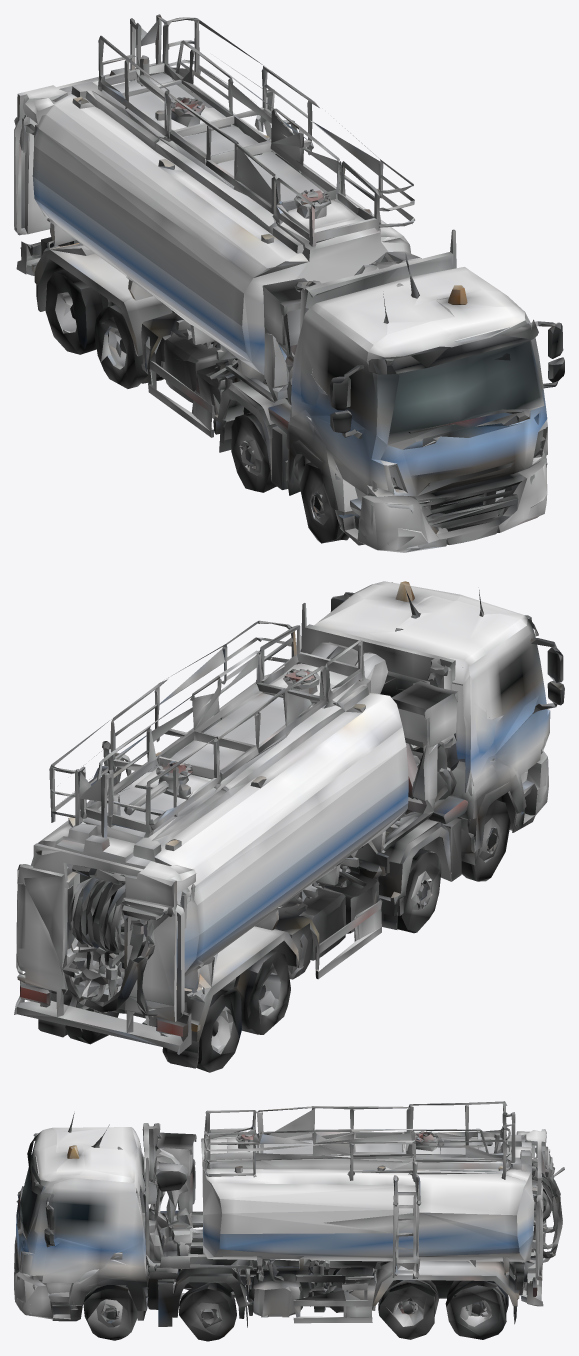
File: stellar_fueler.glb
3 views of the same model, one above another, from view 1: azimuth 30°, elevation 25°; view 2: azimuth 150°, elevation 25°; view 3: azimuth 270°, elevation 25° (orthographic). The views are drawn at different scales.
Visible parts, largest first — view 1: LO; view 2: LO; view 3: LO.
Boxes of the visible parts, box(x1,y1,x2,y2) form: LO: box(14, 14, 564, 552); LO: box(14, 581, 564, 1072); LO: box(14, 1101, 564, 1341).
Size of the model in its own units: 3.26 by 3.9 by 9.5.
Materials: 1 (1 with a texture image).
